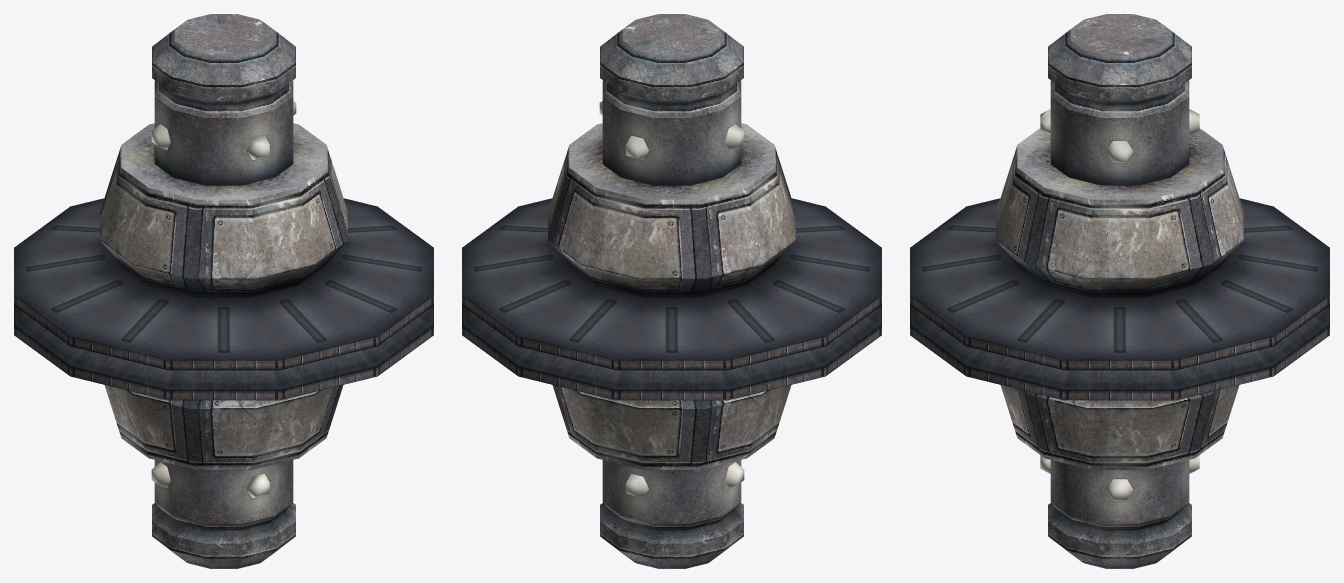
Rendered from kessel_mine_explosive_s01_l0.fbx.
3 views of the same model, side by side, from view 1: azimuth 30°, elevation 25°; view 2: azimuth 150°, elevation 25°; view 3: azimuth 270°, elevation 25° (orthographic).
Parts seen in each view (by area): view 1: mesh_node; view 2: mesh_node; view 3: mesh_node.
Boxes of the visible parts, x1=… form: mesh_node: x1=14, y1=14, x2=433, y2=568; mesh_node: x1=462, y1=14, x2=881, y2=568; mesh_node: x1=910, y1=14, x2=1329, y2=568.
Bounding box in the file's own units: 8.9 × 12 × 8.9.
